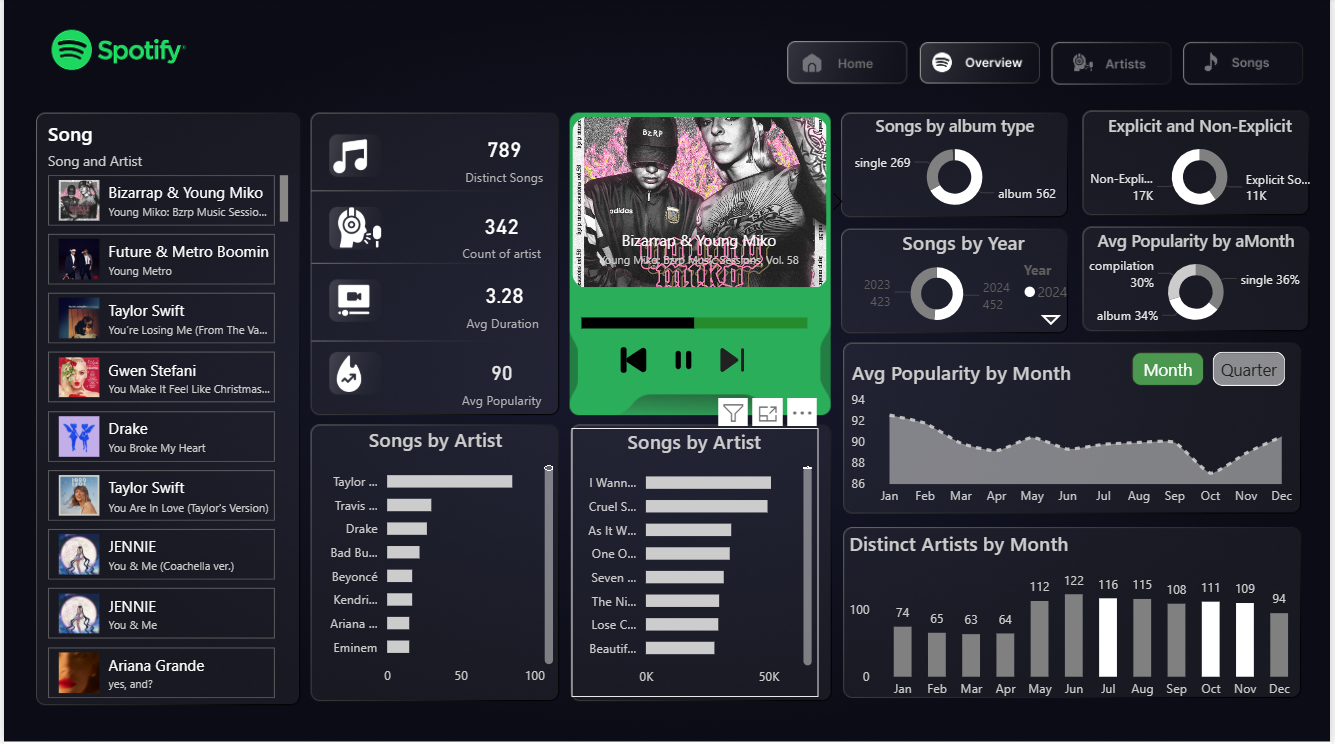

What the dashboard file says about the page in this screenshot:
{"tool":"powerbi","page":{"name":"Overview","canvas":[1280,720],"ordinal":1},"visuals":[{"type":"clusteredBarChart","title":"Songs by Artist","fields":{"Y":["_Measures.Distinct Songs"],"Category":["Top-50-World.artist"]},"box":[298.2,414.3,237.1,258.3],"z":0},{"type":"clusteredBarChart","title":"Songs by Artist","fields":{"Category":["Top-50-World.song"],"Y":["Sum(Top-50-World.popularity)"]},"box":[547.8,415.5,237.1,258.3],"z":1000},{"type":"areaChart","fields":{"Category":["Top-50-World.Month"],"Y":["_Measures.Avg Popularity"]},"box":[812.7,348.8,439.1,149.7],"z":2000},{"type":"advancedSlicerVisual","fields":{"Values":[" Slicer_Option. Slicer_Option"]},"box":[1083.4,336.6,158,43.4],"z":3000},{"type":"donutChart","title":" Songs by album type","fields":{"Y":["_Measures.Distinct Songs"],"Category":["Top-50-World.album_type"]},"box":[803.6,112.3,228.3,99.8],"z":4000},{"type":"donutChart","title":" Explicit and Non-Explicit","fields":{"Y":["_Measures.Explicit Songs","_Measures.Non-Explicit Songs"]},"box":[1039.4,112.3,228.3,99.8],"z":5000},{"type":"donutChart","title":" Songs by Year","fields":{"Y":["_Measures.Distinct Songs"],"Category":["Top-50-World.Year"]},"box":[812.3,223.4,228.3,99.8],"z":6000},{"type":"donutChart","title":"Avg Popularity by aMonth","fields":{"Y":["_Measures.Avg Popularity"],"Category":["Top-50-World.album_type"]},"box":[1036.9,223.4,228.3,99.8],"z":7000},{"type":"clusteredColumnChart","fields":{"Category":["Top-50-World.Month"],"Y":["_Measures.Distinct Artists"]},"box":[810.9,514,447.7,171.3],"z":8000},{"type":"card","fields":{"Values":["_Measures.Distinct Songs"]},"box":[416.8,93.6,133.5,121],"z":9000},{"type":"card","fields":{"Values":["Count(Top-50-World.artist)"]},"box":[414.3,167.2,133.5,121],"z":10000},{"type":"card","fields":{"Values":["_Measures.Avg Duration Minutes"]},"box":[416.3,235.3,133.9,120.7],"z":11000},{"type":"card","fields":{"Values":["_Measures.Avg Popularity"]},"box":[414.3,309.5,133.5,121],"z":12000},{"type":"image","box":[311.3,136.3,45.8,32.6],"z":13000},{"type":"image","box":[304,200.3,78.4,42.2],"z":14000},{"type":"image","box":[298,345,80.8,35],"z":15000},{"type":"image","box":[307.6,273.9,60.3,36.2],"z":16000},{"type":"advancedSlicerVisual","title":"Song ","fields":{"Values":["Top-50-World.song"]},"box":[37.4,118.2,242.5,570.7],"z":17000},{"type":"advancedSlicerVisual","title":"Song ","fields":{"Values":["Top-50-World.song"]},"box":[522.4,108.6,298,176.1],"z":18000},{"type":"hundredPercentStackedBarChart","fields":{"Y":["Avg(Top-50-World.popularity)","_Measures.Avg Popularity"]},"box":[552.2,274.9,228.1,71.2],"z":19000},{"type":"image","box":[683,334.2,40,30],"z":20000},{"type":"image","box":[587.6,334.2,40,30],"z":21000},{"type":"image","box":[635.3,334.2,40,30],"z":22000},{"type":"shape","box":[549,112.2,255.8,292],"z":23000},{"type":"actionButton","box":[755.8,43.9,114.6,37.4],"z":24000},{"type":"actionButton","box":[883.7,45.1,114.6,37.4],"z":25000},{"type":"actionButton","box":[1012.9,43.9,114.6,37.4],"z":26000},{"type":"actionButton","box":[1142,45.1,114.6,37.4],"z":27000}]}

Visuals, with their boxes in screenshot pixels (x1, y1, x2, y2), scaled from the page's 1280x720 canvas onto the 1335x744 screenshot:
"Songs by Artist" clusteredBarChart: x1=311 y1=428 x2=558 y2=695
"Songs by Artist" clusteredBarChart: x1=571 y1=429 x2=819 y2=696
areaChart - Top-50-World.Month x _Measures.Avg Popularity: x1=848 y1=360 x2=1306 y2=515
advancedSlicerVisual -  Slicer_Option. Slicer_Option: x1=1130 y1=348 x2=1295 y2=393
" Songs by album type" donutChart: x1=838 y1=116 x2=1076 y2=219
" Explicit and Non-Explicit" donutChart: x1=1084 y1=116 x2=1322 y2=219
" Songs by Year" donutChart: x1=847 y1=231 x2=1085 y2=334
"Avg Popularity by aMonth" donutChart: x1=1081 y1=231 x2=1320 y2=334
clusteredColumnChart - Top-50-World.Month x _Measures.Distinct Artists: x1=846 y1=531 x2=1313 y2=708
card - _Measures.Distinct Songs: x1=435 y1=97 x2=574 y2=222
card - Count(Top-50-World.artist): x1=432 y1=173 x2=571 y2=298
card - _Measures.Avg Duration Minutes: x1=434 y1=243 x2=574 y2=368
card - _Measures.Avg Popularity: x1=432 y1=320 x2=571 y2=445
image: x1=325 y1=141 x2=372 y2=175
image: x1=317 y1=207 x2=399 y2=251
image: x1=311 y1=357 x2=395 y2=393
image: x1=321 y1=283 x2=384 y2=320
"Song " advancedSlicerVisual: x1=39 y1=122 x2=292 y2=712
"Song " advancedSlicerVisual: x1=545 y1=112 x2=856 y2=294
hundredPercentStackedBarChart - Avg(Top-50-World.popularity) x _Measures.Avg Popularity: x1=576 y1=284 x2=814 y2=358
image: x1=712 y1=345 x2=754 y2=376
image: x1=613 y1=345 x2=655 y2=376
image: x1=663 y1=345 x2=704 y2=376
shape: x1=573 y1=116 x2=839 y2=418
actionButton: x1=788 y1=45 x2=908 y2=84
actionButton: x1=922 y1=47 x2=1041 y2=85
actionButton: x1=1056 y1=45 x2=1176 y2=84
actionButton: x1=1191 y1=47 x2=1311 y2=85
